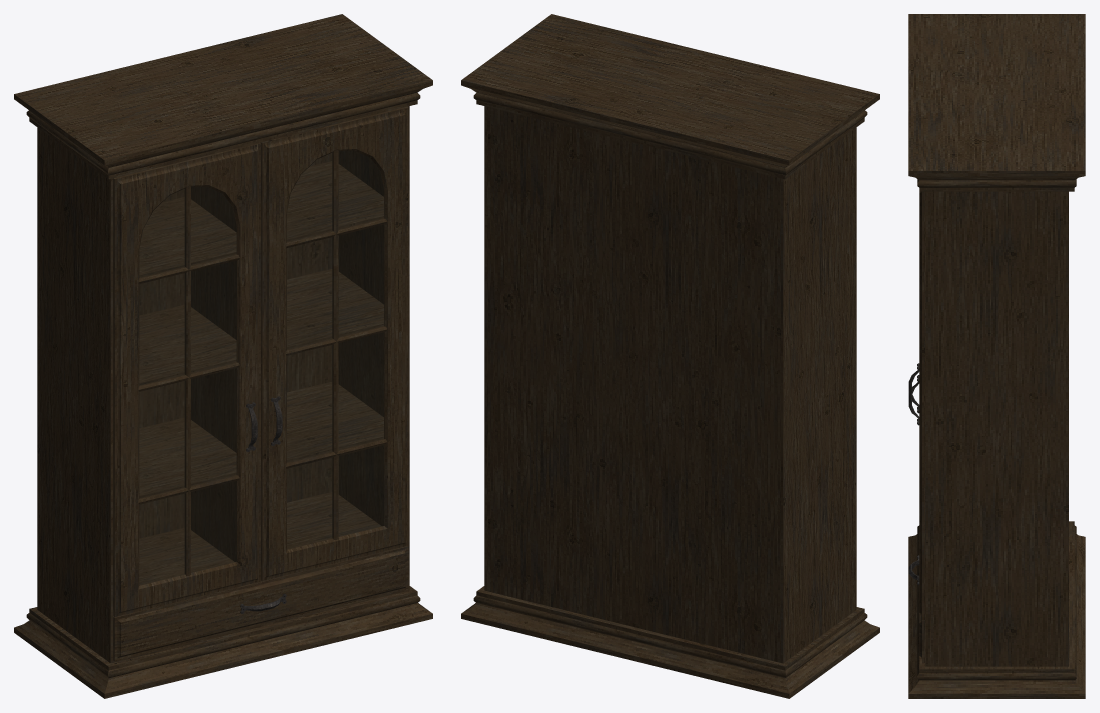
File: display_cabinet_mp_2_3.glb
The picture shows the model from 3 angles, left to right: view 1: azimuth 30°, elevation 25°; view 2: azimuth 150°, elevation 25°; view 3: azimuth 270°, elevation 25°; orthographic projection. The views are drawn at different scales.
Visible parts, largest first — view 1: display_cabinet_mp_2_3, display_cabinet_mp_2_3_drawer; view 2: display_cabinet_mp_2_3; view 3: display_cabinet_mp_2_3, display_cabinet_mp_2_3_drawer.
Part boxes in pixels (x1,y1,x2,y2): display_cabinet_mp_2_3: (14,14,432,698); display_cabinet_mp_2_3_drawer: (113,546,408,661); display_cabinet_mp_2_3: (461,14,879,698); display_cabinet_mp_2_3: (908,14,1085,698); display_cabinet_mp_2_3_drawer: (908,555,924,662).
Size of the model in its own units: 1.34 by 2.1 by 0.64.
3 materials, 3 textured.
